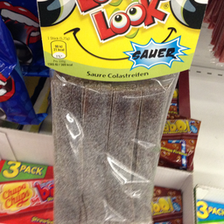candy: (44, 1, 181, 218)
